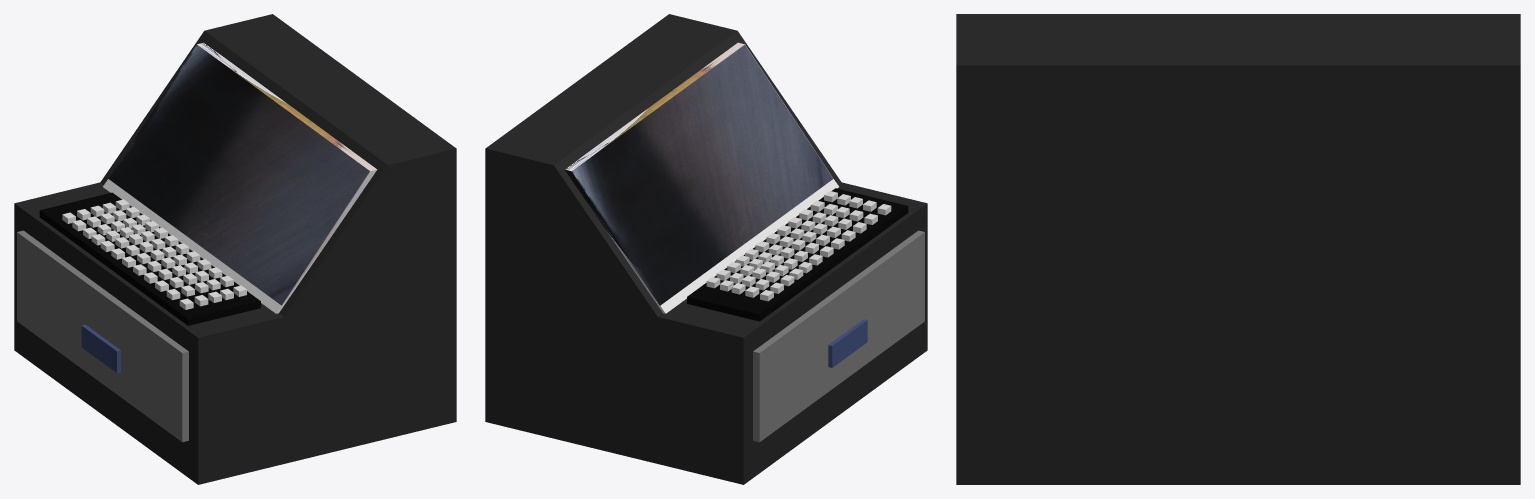
File: cashregister.glb
3 renders of one model, left to right at view 1: azimuth 30°, elevation 25°; view 2: azimuth 150°, elevation 25°; view 3: azimuth 270°, elevation 25°, orthographic. The views are drawn at different scales.
Parts seen in each view (by area): view 1: Cube, Cube.002, Cube.005, Cube.007, Cube.001, Cube.003; view 2: Cube, Cube.002, Cube.005, Cube.007, Cube.001, Cube.003; view 3: Cube.
Boxes of the visible parts, x1,y1,x2,y2 form: Cube: (14, 14, 456, 484); Cube.002: (108, 42, 377, 312); Cube.005: (17, 230, 188, 442); Cube.007: (39, 192, 260, 325); Cube.001: (103, 179, 331, 313); Cube.003: (81, 324, 120, 373); Cube: (485, 14, 927, 484); Cube.002: (564, 42, 833, 310); Cube.005: (753, 230, 924, 442); Cube.007: (687, 188, 908, 321); Cube.001: (610, 179, 838, 313); Cube.003: (828, 319, 867, 367); Cube: (956, 14, 1520, 484).
Size of the model in its own units: 2.37 by 2.3 by 2.8.
Materials: 5 (1 with a texture image).
